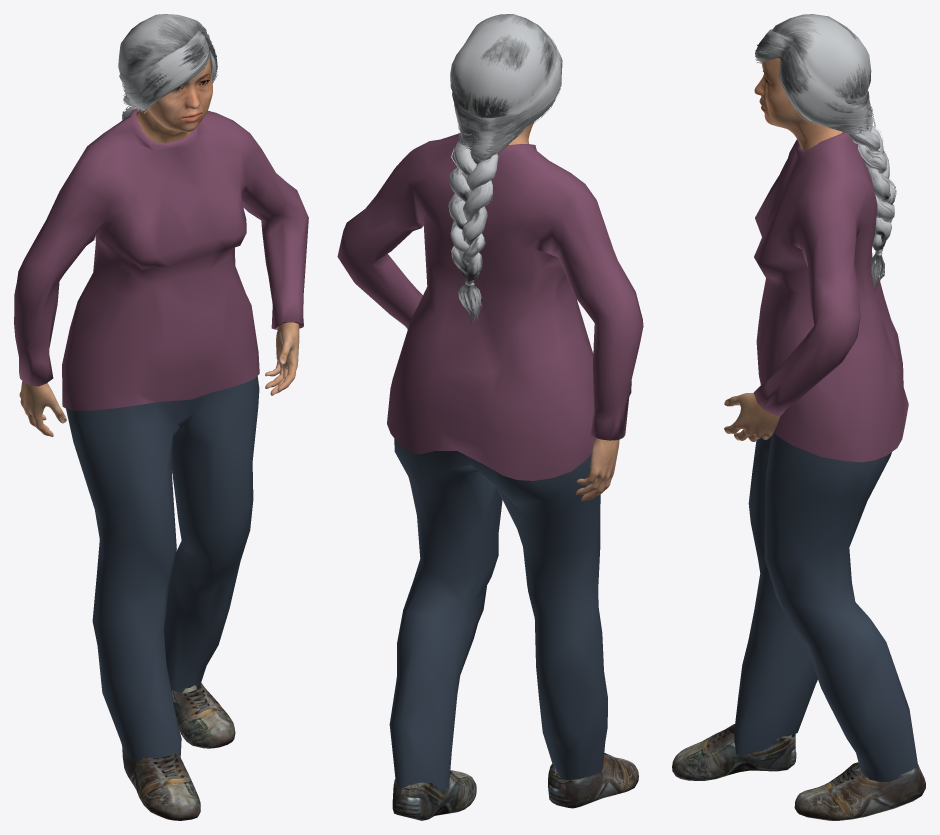
Rendered from nora.glb.
The picture shows the model from 3 angles, left to right: view 1: azimuth 30°, elevation 25°; view 2: azimuth 150°, elevation 25°; view 3: azimuth 270°, elevation 25°; orthographic projection. The views are drawn at different scales.
Parts seen in each view (by area): view 1: male_casualsuit02, braid01, shoes02, Nora | anatomical body; view 2: male_casualsuit02, braid01, shoes02, Nora | anatomical body; view 3: male_casualsuit02, braid01, shoes02, Nora | anatomical body.
Boxes of the visible parts, <box> form: male_casualsuit02: <box>14,108,308,762</box>; braid01: <box>118,14,217,120</box>; shoes02: <box>122,682,235,820</box>; Nora | anatomical body: <box>19,54,299,436</box>; male_casualsuit02: <box>337,133,643,789</box>; braid01: <box>448,14,562,323</box>; shoes02: <box>392,753,638,820</box>; Nora | anatomical body: <box>508,122,619,501</box>; male_casualsuit02: <box>734,132,918,781</box>; braid01: <box>755,14,896,290</box>; shoes02: <box>672,724,925,820</box>; Nora | anatomical body: <box>724,58,842,441</box>.
Bounding box in the file's own units: 0.6275 × 1.58 × 0.4674.
Materials: 10 (10 with a texture image).
